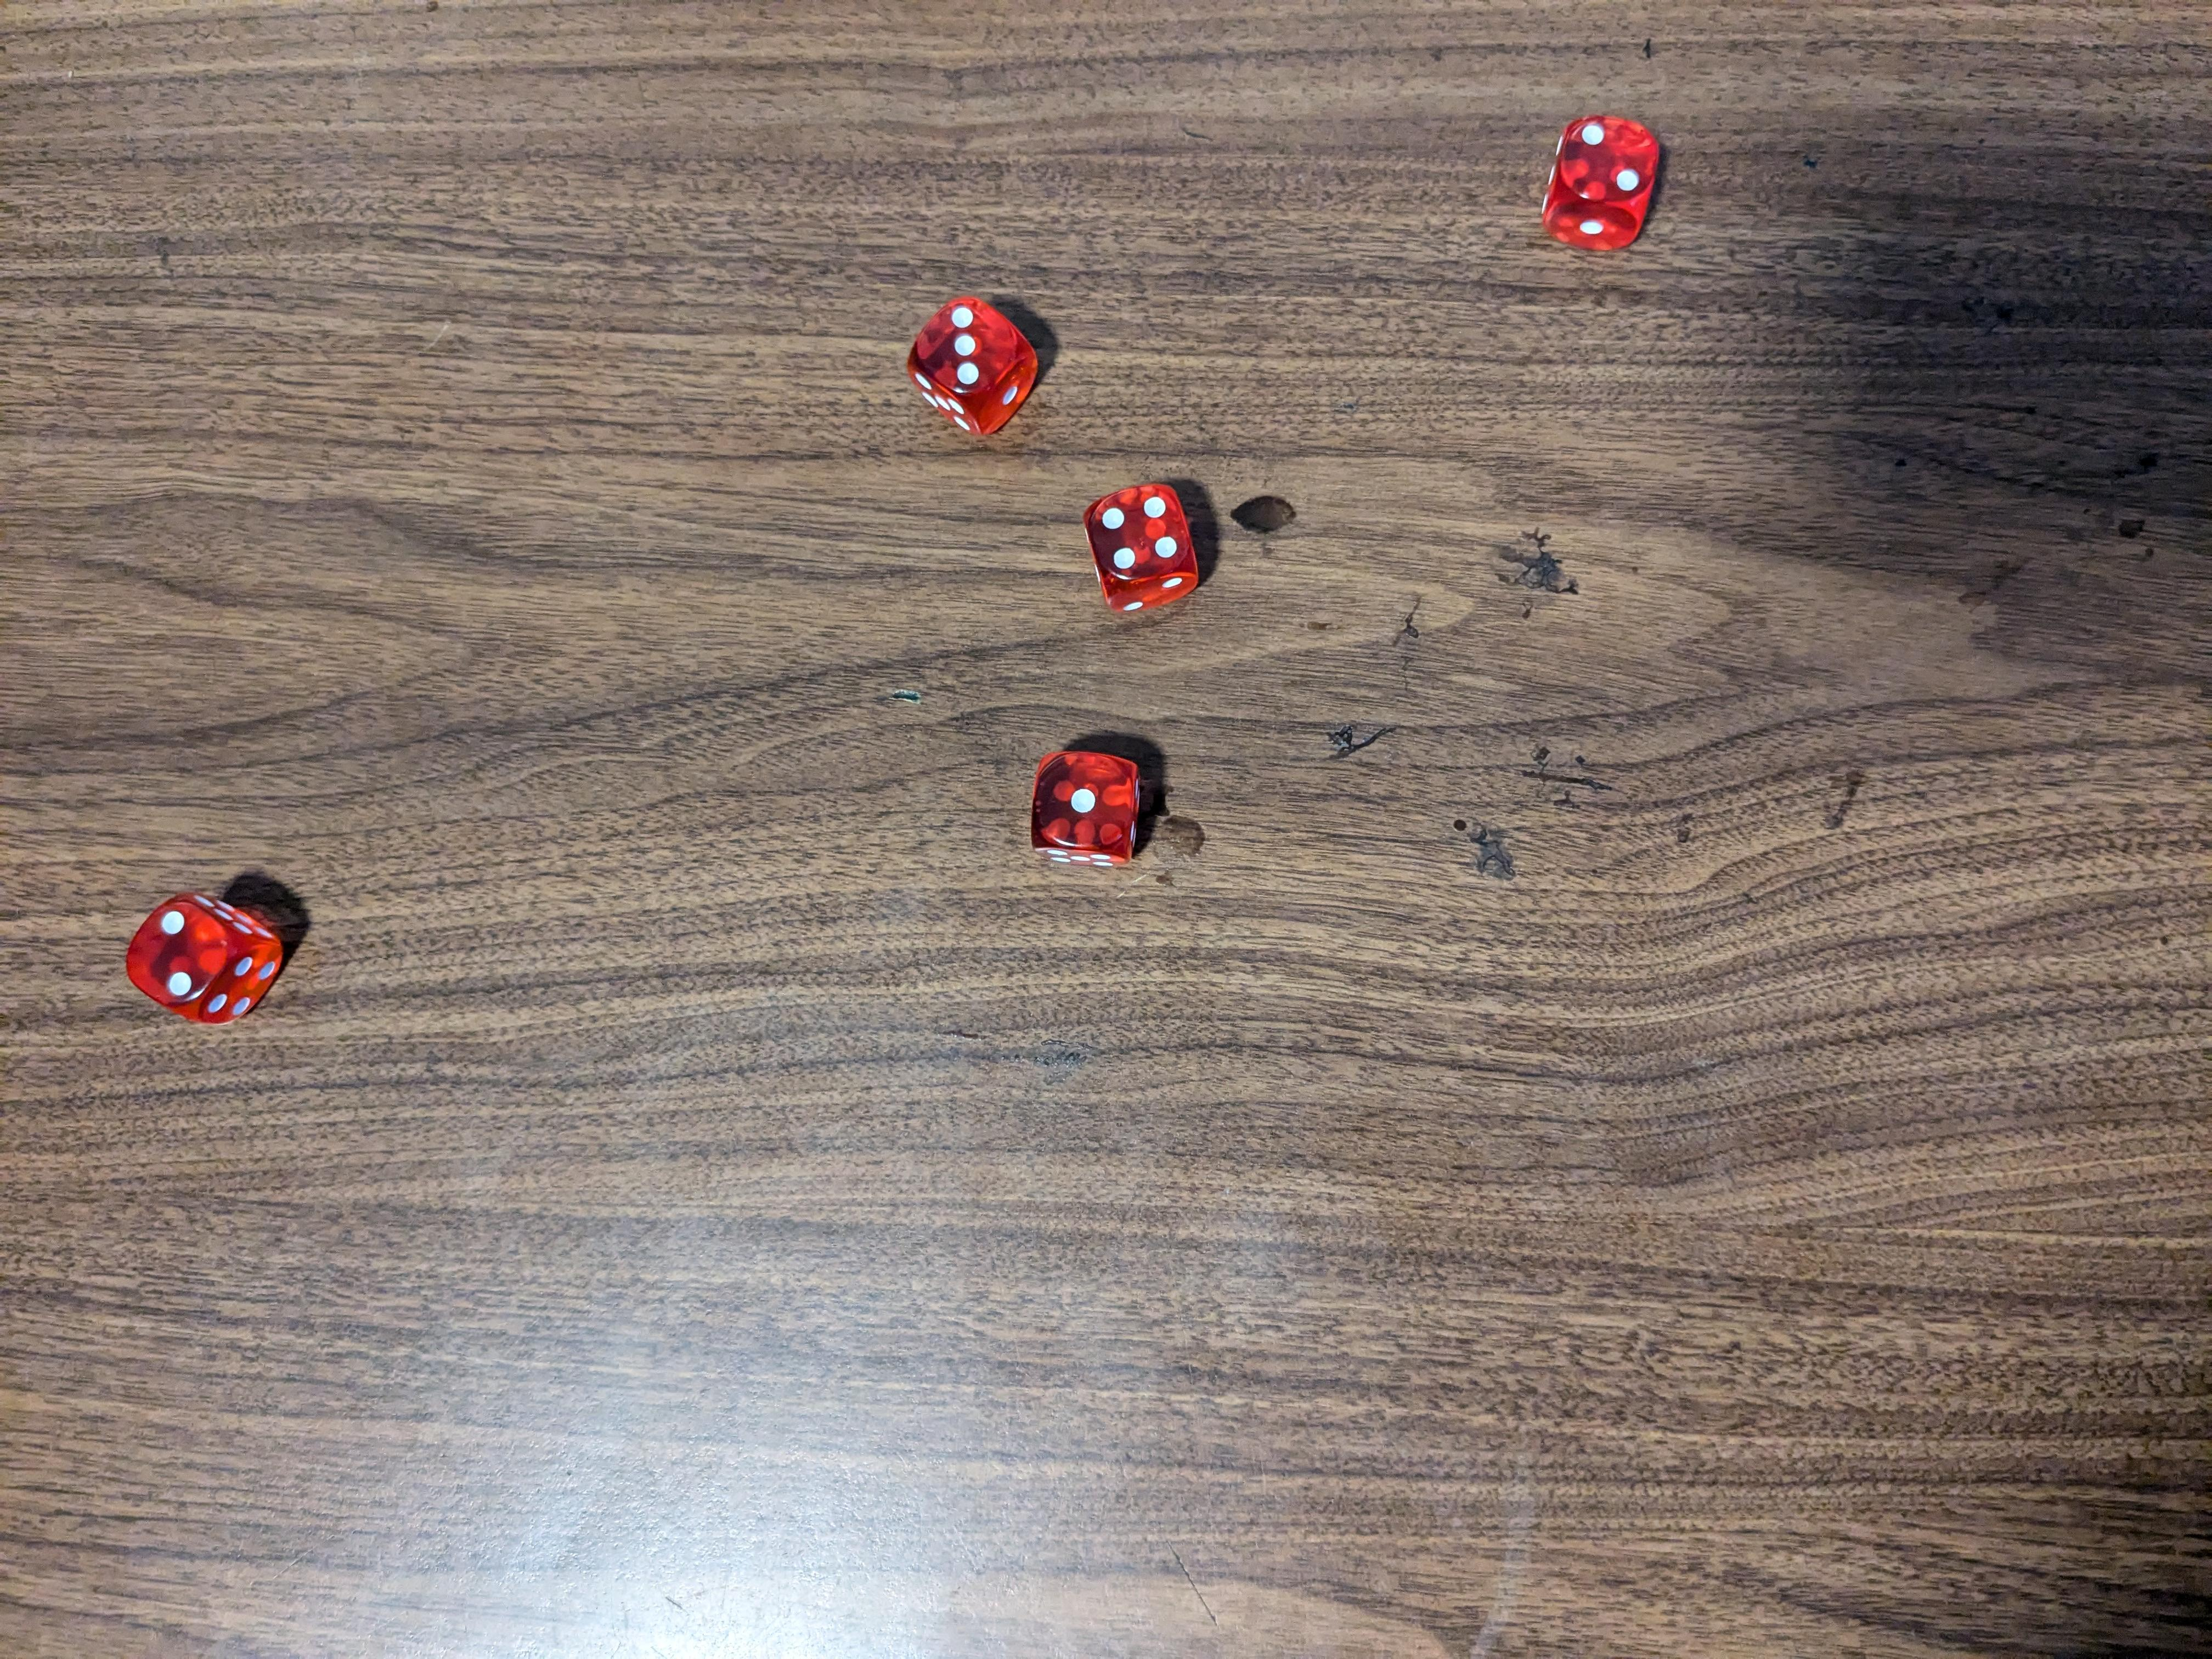four: (1083, 477, 1205, 606)
one: (1033, 742, 1141, 873)
three: (906, 291, 1042, 437)
two: (124, 890, 282, 1021), (1545, 113, 1665, 253)
